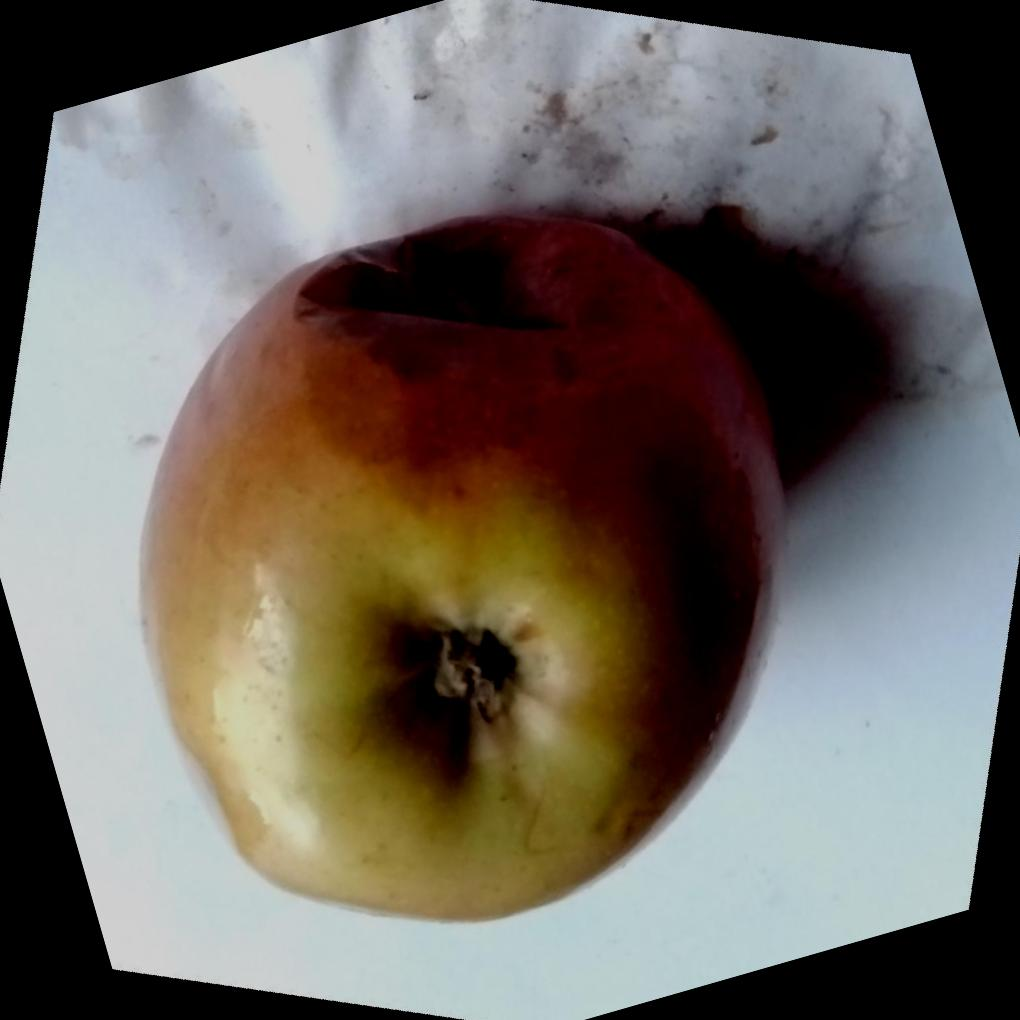FreshOrange: (134, 208, 787, 922)
